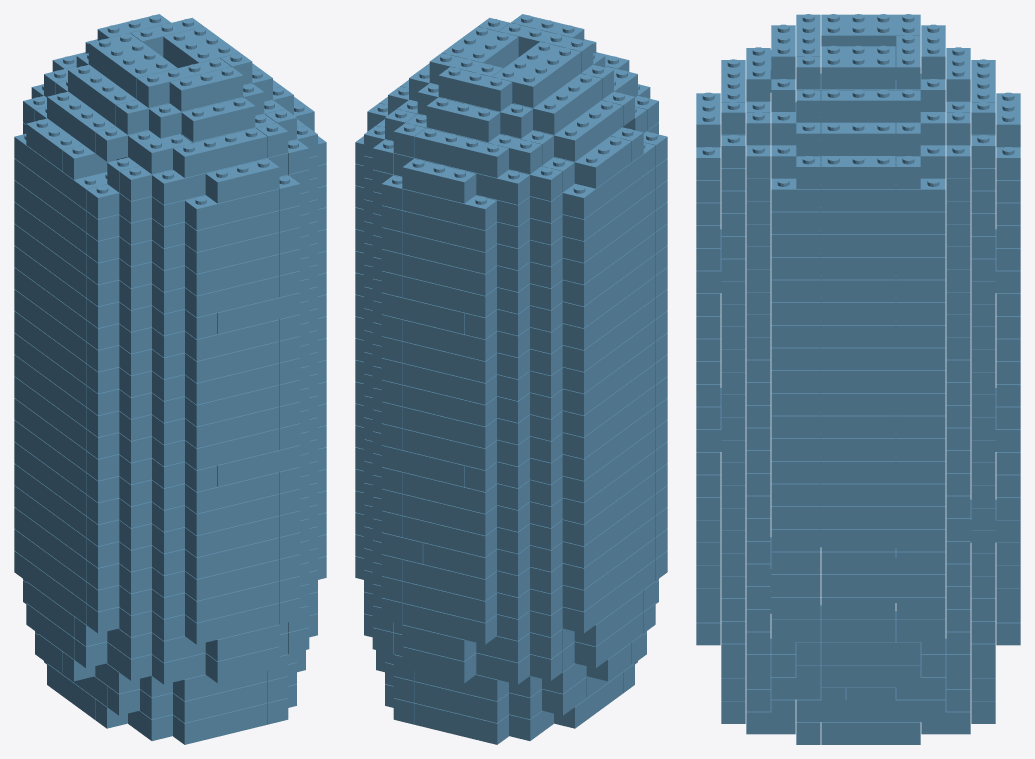
The model's file is 100_bowl_L5.glb.
3 renders of one model, left to right at view 1: azimuth 30°, elevation 25°; view 2: azimuth 150°, elevation 25°; view 3: azimuth 270°, elevation 25°, orthographic. The views are drawn at different scales.
Size of the model in its own units: 10.98 by 29.13 by 12.98.
